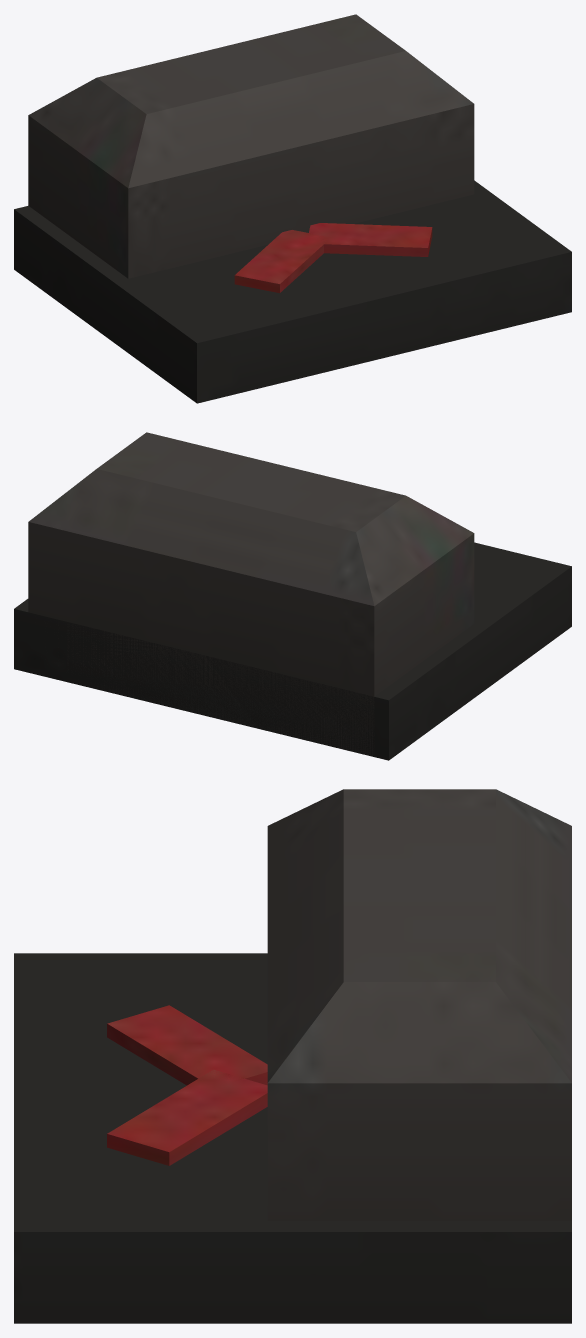
Rendered from fast-underground-belt.glb.
3 renders of one model, top to bottom at view 1: azimuth 30°, elevation 25°; view 2: azimuth 150°, elevation 25°; view 3: azimuth 270°, elevation 25°, orthographic. The views are drawn at different scales.
Parts seen in each view (by area): view 1: fast-underground-belt; view 2: fast-underground-belt; view 3: fast-underground-belt.
Boxes of the visible parts, box(x1,y1,x2,y2) form: fast-underground-belt: box(14, 14, 571, 403); fast-underground-belt: box(14, 432, 571, 760); fast-underground-belt: box(14, 789, 571, 1323).
Size of the model in its own units: 0.26 by 0.13 by 0.22.
Materials: 1 (1 with a texture image).
